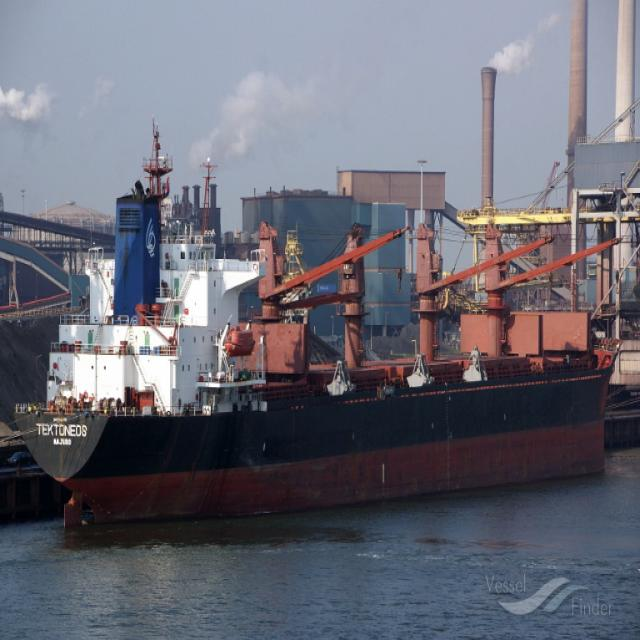OCR: (30, 418, 93, 448)
